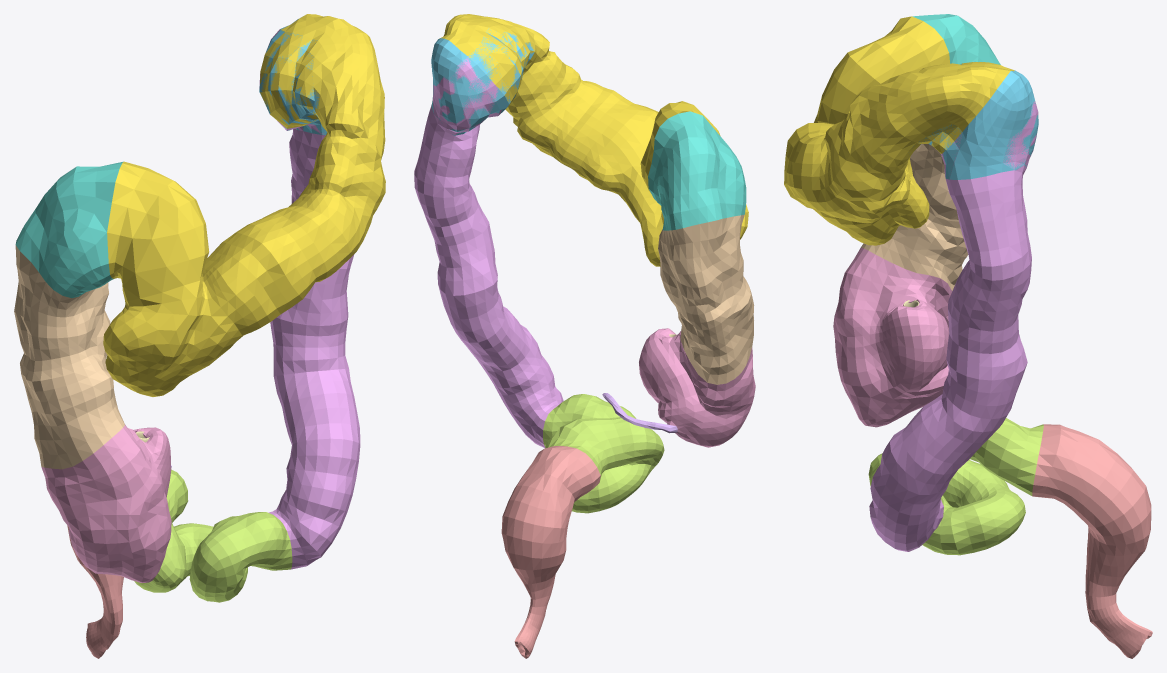
Rendered from organ-large-intestine.glb.
3 views of the same model, side by side, from view 1: azimuth 30°, elevation 25°; view 2: azimuth 150°, elevation 25°; view 3: azimuth 270°, elevation 25° (orthographic). The views are drawn at different scales.
Parts seen in each view (by area): view 1: transverse-colon, descending-colon, ascending-colon, caecum, hepatic-flexure-of-colon, sigmoid-colon, rectum, splenic-flexure-of-colon; view 2: descending-colon, transverse-colon, ascending-colon, rectum, hepatic-flexure-of-colon, caecum, sigmoid-colon, splenic-flexure-of-colon, vermiform-appendix; view 3: descending-colon, transverse-colon, caecum, rectum, sigmoid-colon, ascending-colon, splenic-flexure-of-colon, hepatic-flexure-of-colon.
Boxes of the visible parts, bbox=[...] form: transverse-colon: bbox=[103, 14, 385, 396]; descending-colon: bbox=[259, 29, 360, 569]; ascending-colon: bbox=[14, 245, 124, 469]; caecum: bbox=[41, 424, 171, 582]; hepatic-flexure-of-colon: bbox=[15, 161, 123, 298]; sigmoid-colon: bbox=[134, 469, 292, 602]; rectum: bbox=[67, 525, 123, 658]; splenic-flexure-of-colon: bbox=[259, 19, 326, 135]; descending-colon: bbox=[414, 57, 563, 447]; transverse-colon: bbox=[439, 14, 748, 266]; ascending-colon: bbox=[658, 214, 754, 384]; rectum: bbox=[501, 446, 600, 658]; hepatic-flexure-of-colon: bbox=[648, 111, 746, 230]; caecum: bbox=[639, 328, 755, 447]; sigmoid-colon: bbox=[543, 394, 664, 513]; splenic-flexure-of-colon: bbox=[431, 28, 534, 135]; vermiform-appendix: bbox=[602, 393, 677, 433]; descending-colon: bbox=[869, 101, 1038, 551]; transverse-colon: bbox=[784, 16, 1014, 245]; caecum: bbox=[833, 247, 952, 427]; rectum: bbox=[1032, 424, 1152, 658]; sigmoid-colon: bbox=[868, 418, 1043, 555]; ascending-colon: bbox=[861, 144, 968, 290]; splenic-flexure-of-colon: bbox=[913, 61, 1038, 179]; hepatic-flexure-of-colon: bbox=[912, 14, 1000, 64].
Size of the model in its own units: 0.2591 by 0.4503 by 0.2248.
